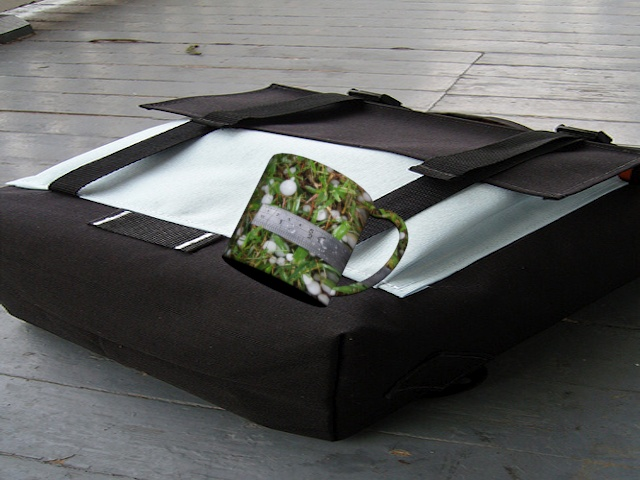mug: (217, 144, 417, 312)
